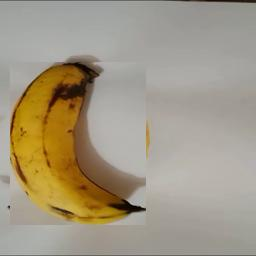Banana Semifresh: (11, 62, 148, 225)
